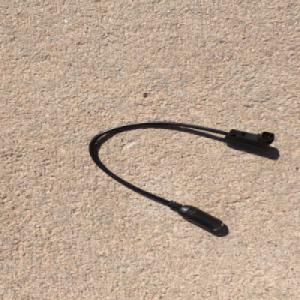Wire: (87, 119, 277, 233)
